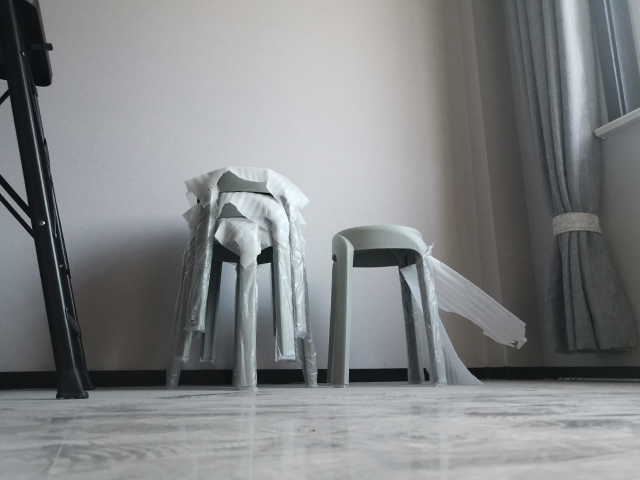curtain: (501, 1, 640, 355)
stool: (163, 164, 319, 392), (325, 223, 446, 390)
